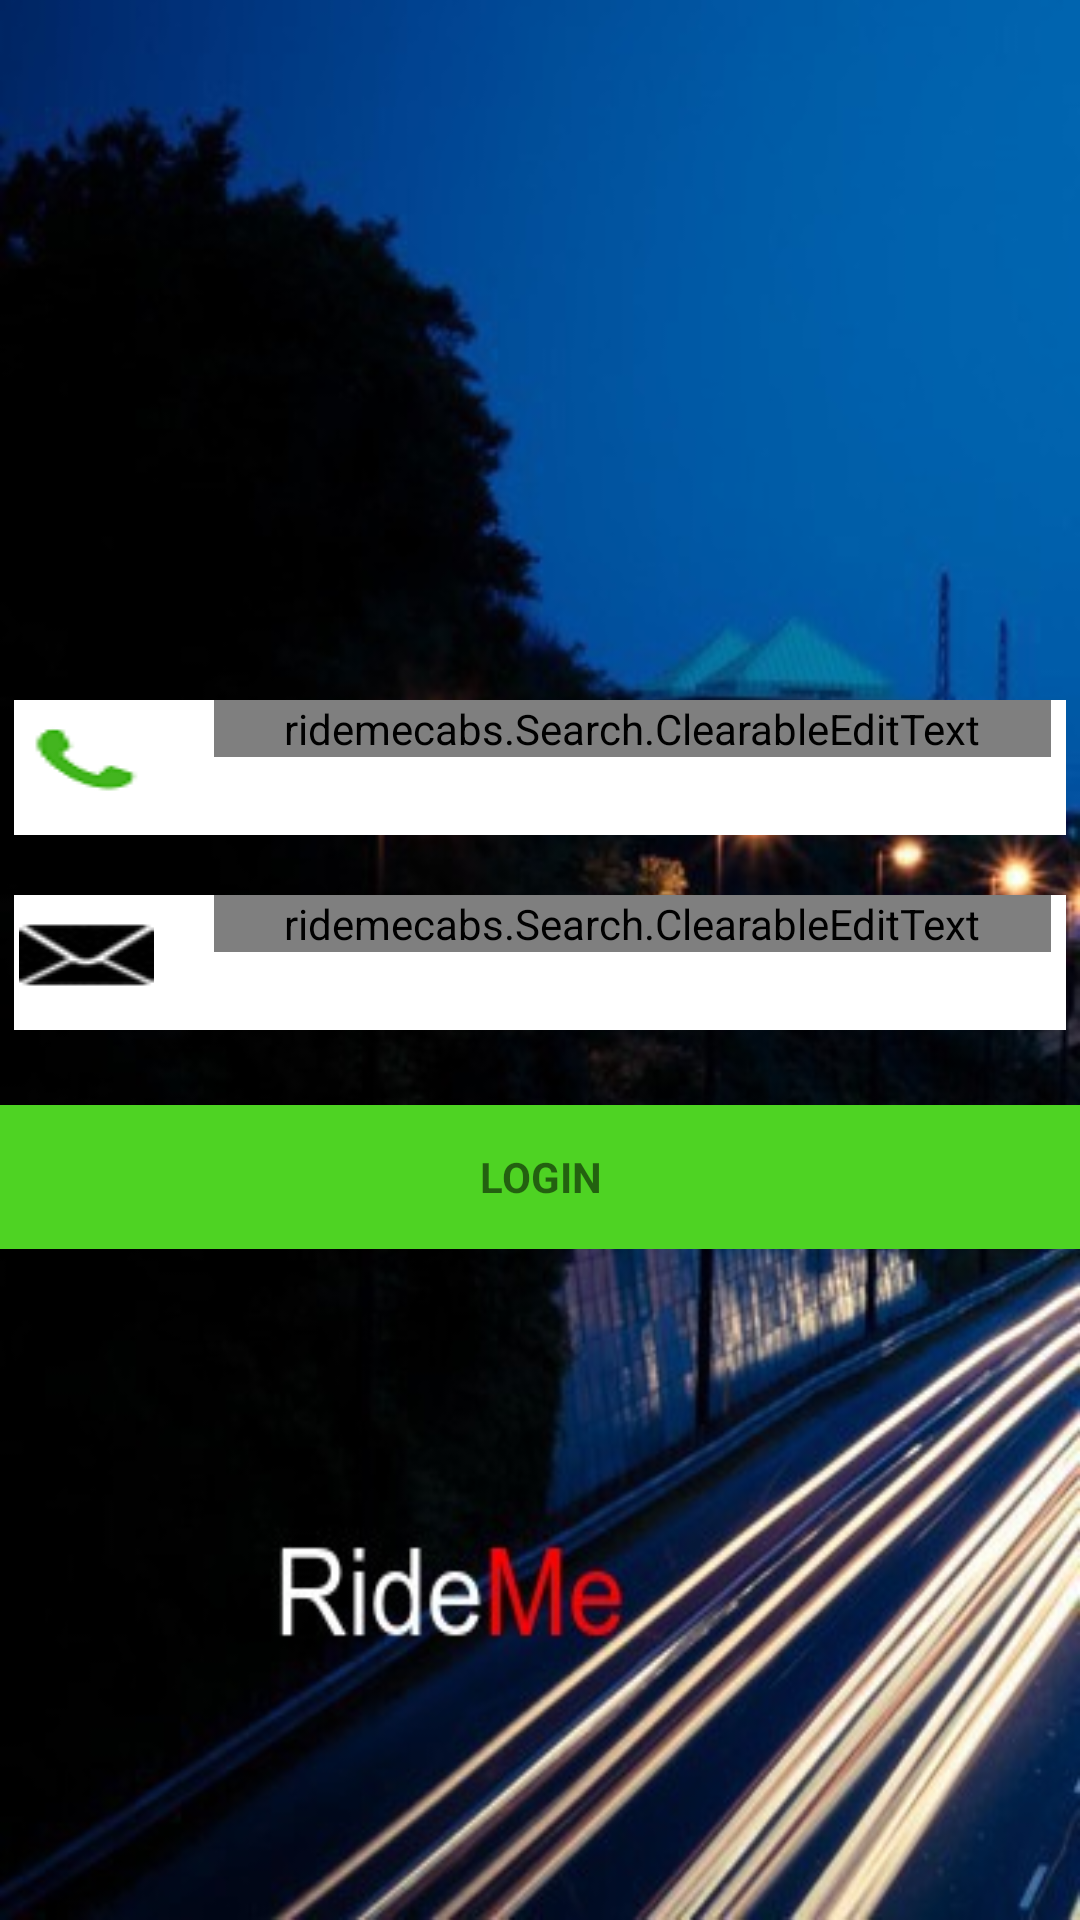

Where to tap for icons on this 1080px x 1920px app screen, as [x,y]:
contact: [86,760]
email: [86,955]
